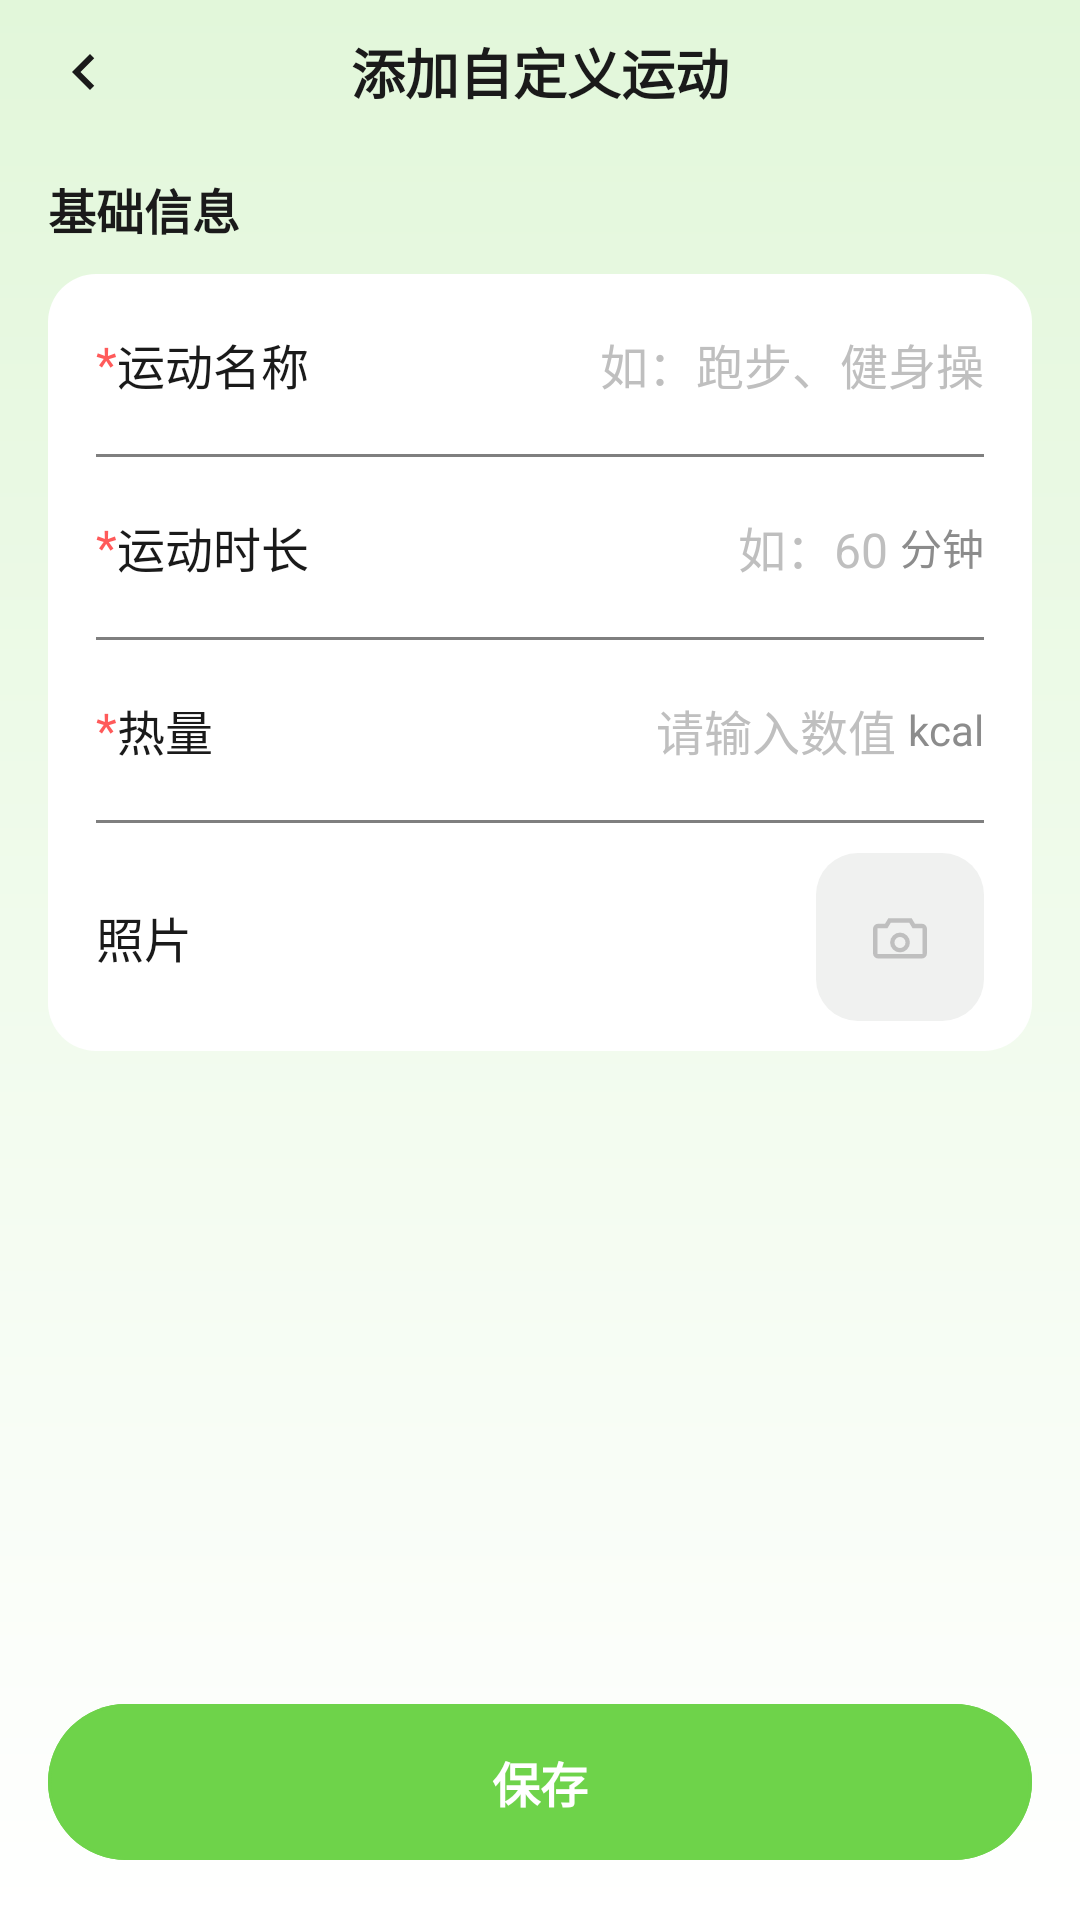

Where to tap for icons on this 1080×1920 app screen, as (x,y):
照片: (900,938)
返回: (83,72)
